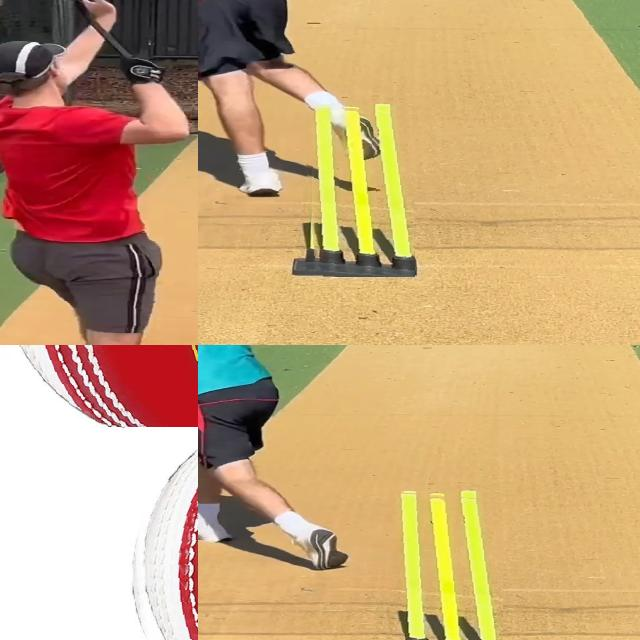Cricket ball: (0, 345, 198, 427), (124, 426, 198, 640)
Stumps: (301, 104, 415, 277), (373, 489, 502, 640)
